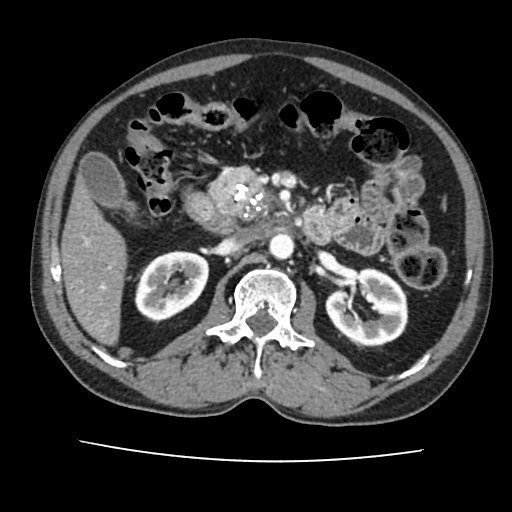aorta: (268, 233, 295, 260)
